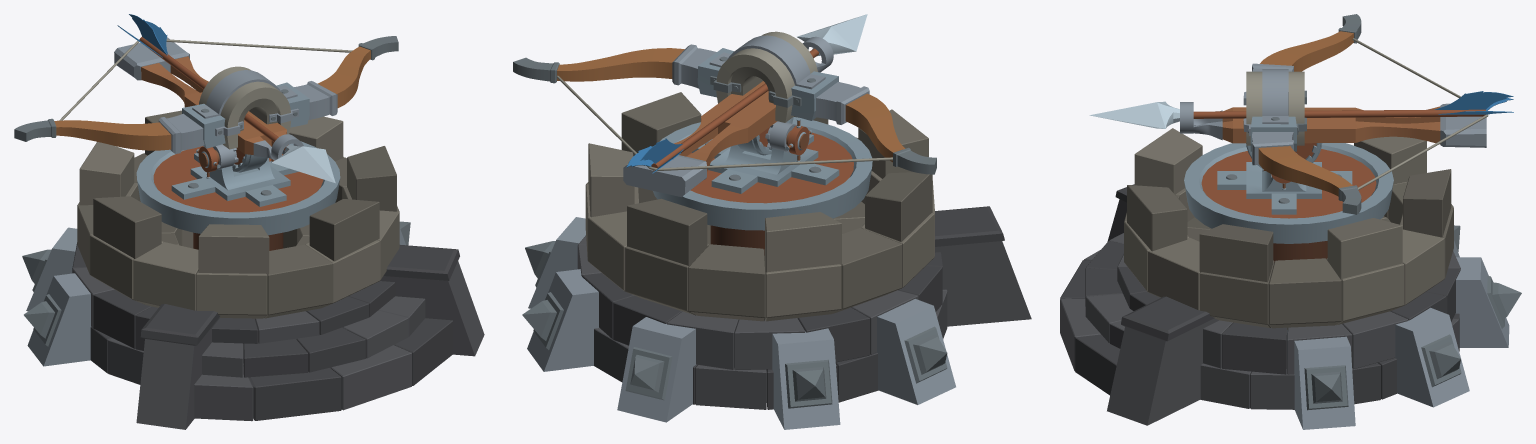
The model's file is crossbow_tower.fbx.
The picture shows the model from 3 angles, left to right: view 1: azimuth 30°, elevation 25°; view 2: azimuth 150°, elevation 25°; view 3: azimuth 270°, elevation 25°; orthographic projection. The views are drawn at different scales.
Parts seen in each view (by area): view 1: Cube.010, Cube.011, Cube.012, Cube.009, Cylinder.004, Cube.019, Cube.018, Cube.022, Plane, Cube.001, Cylinder.015, Cube.002 (+13 smaller); view 2: Cube.011, Cube.012, Cube.009, Cylinder.004, Cube.019, Cube.028, Cube.022, Cube.021, Cube.017, Plane, Cube.001, Cylinder.015 (+17 smaller); view 3: Cube.011, Cube.012, Cube.009, Cylinder.004, Cube.018, Cube.010, Cube.017, Cube.016, Cube.028, Cube.002, Plane, Cube.001 (+13 smaller).
Boxes of the visible parts, left/top/right/bottom form: Cube.010: left=194, top=296, right=453, bottom=421; Cube.011: left=77, top=153, right=399, bottom=318; Cube.012: left=79, top=110, right=396, bottom=275; Cube.009: left=72, top=242, right=395, bottom=384; Cylinder.004: left=136, top=141, right=340, bottom=235; Cube.019: left=136, top=304, right=219, bottom=429; Cube.018: left=380, top=245, right=484, bottom=356; Cube.022: left=24, top=273, right=91, bottom=366; Plane: left=54, top=46, right=370, bottom=150; Cube.001: left=171, top=153, right=298, bottom=206; Cylinder.015: left=199, top=66, right=290, bottom=149; Cube.002: left=141, top=56, right=286, bottom=154; Cube.011: left=585, top=137, right=934, bottom=321; Cube.012: left=588, top=92, right=932, bottom=272; Cube.009: left=577, top=235, right=947, bottom=409; Cylinder.004: left=653, top=117, right=872, bottom=230; Cube.019: left=935, top=206, right=1031, bottom=326; Cube.028: left=617, top=317, right=695, bottom=422; Cube.022: left=877, top=299, right=955, bottom=404; Cube.021: left=772, top=328, right=840, bottom=429; Cube.017: left=522, top=269, right=599, bottom=371; Plane: left=557, top=48, right=905, bottom=162; Cube.001: left=691, top=134, right=839, bottom=193; Cylinder.015: left=716, top=31, right=817, bottom=122; Cube.011: left=1124, top=181, right=1453, bottom=329; Cube.012: left=1127, top=128, right=1451, bottom=282; Cube.009: left=1117, top=251, right=1460, bottom=409; Cylinder.004: left=1184, top=143, right=1393, bottom=243; Cube.018: left=1107, top=296, right=1218, bottom=425; Cube.010: left=1060, top=233, right=1133, bottom=395; Cube.017: left=1395, top=307, right=1469, bottom=407; Cube.016: left=1287, top=330, right=1355, bottom=429; Cube.028: left=1455, top=257, right=1521, bottom=347; Cube.002: left=1222, top=106, right=1440, bottom=143; Plane: left=1258, top=31, right=1353, bottom=196; Cube.001: left=1217, top=162, right=1352, bottom=214.
Bounding box in the file's own units: 705 × 451 × 712.
